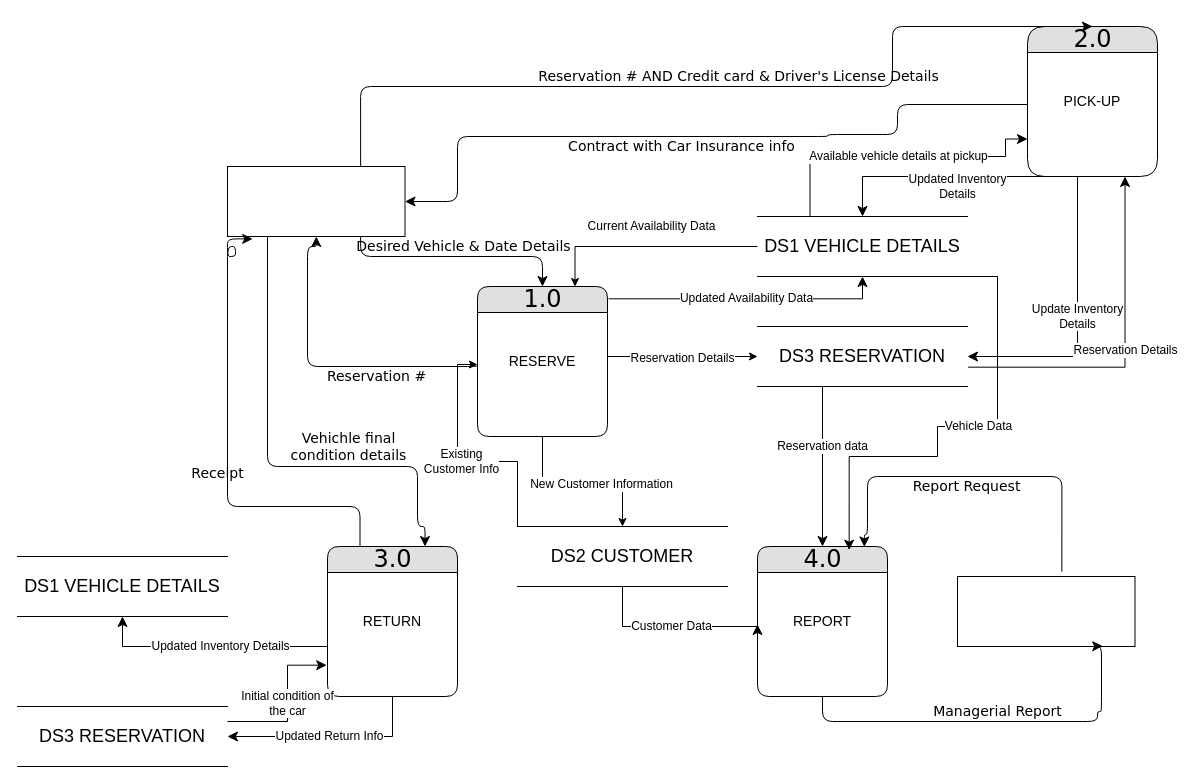
Some shapes in this 1194 by 784 pixel diagram are drawn without their labels. The centre of each missing label's shape, as x and y in pixels:
"Customer" belongs at [315,201].
"Manager" belongs at [1045,611].
